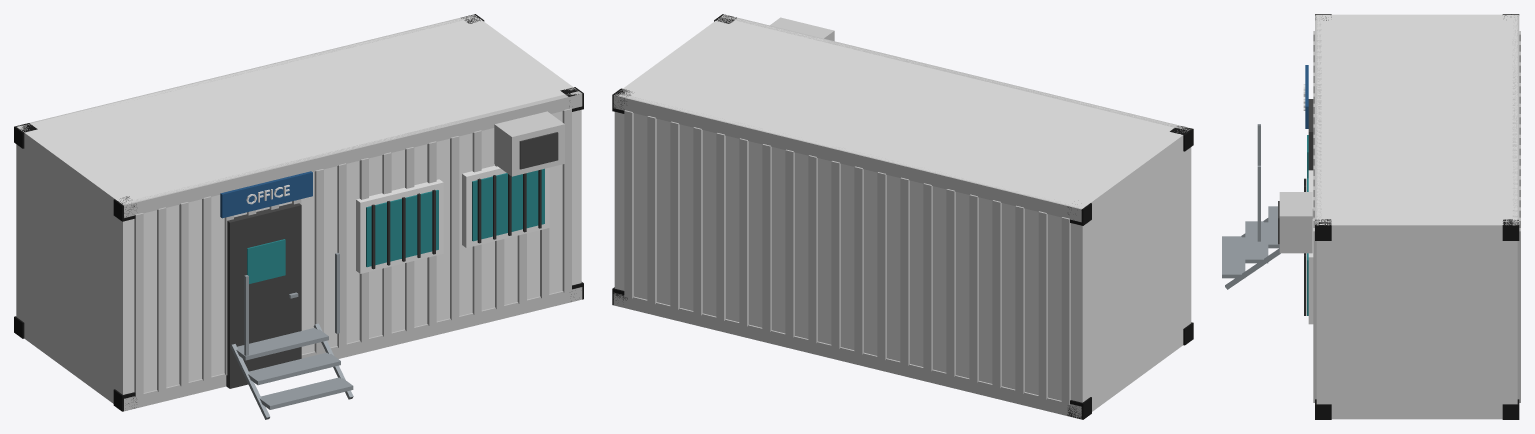
Rendered from Camp_ContainerOffice.fbx.
3 renders of one model, left to right at view 1: azimuth 30°, elevation 25°; view 2: azimuth 150°, elevation 25°; view 3: azimuth 270°, elevation 25°, orthographic. The views are drawn at different scales.
Parts seen in each view (by area): view 1: Camp_ContainerOffice; view 2: Camp_ContainerOffice; view 3: Camp_ContainerOffice.
Boxes of the visible parts, x1,y1,x2,y2 form: Camp_ContainerOffice: (14, 14, 583, 419); Camp_ContainerOffice: (612, 14, 1193, 419); Camp_ContainerOffice: (1222, 14, 1520, 419).
Bounding box in the file's own units: 6.1 × 2.6 × 3.63.
